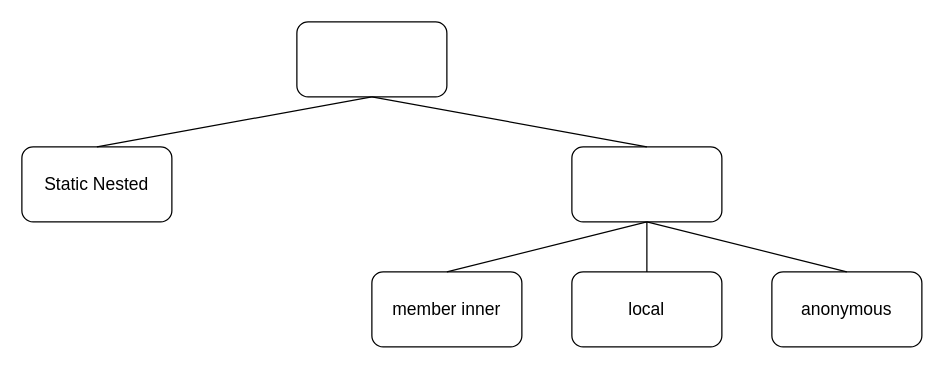
Some shapes in this 944 by 369 pixel diagram are drawn without their labels. The box of each missing label's shape, as (x1, y1, x2, y2) in pixels:
Nested: (296, 21, 447, 97)
Non-Static Nested Inner: (571, 146, 722, 222)
